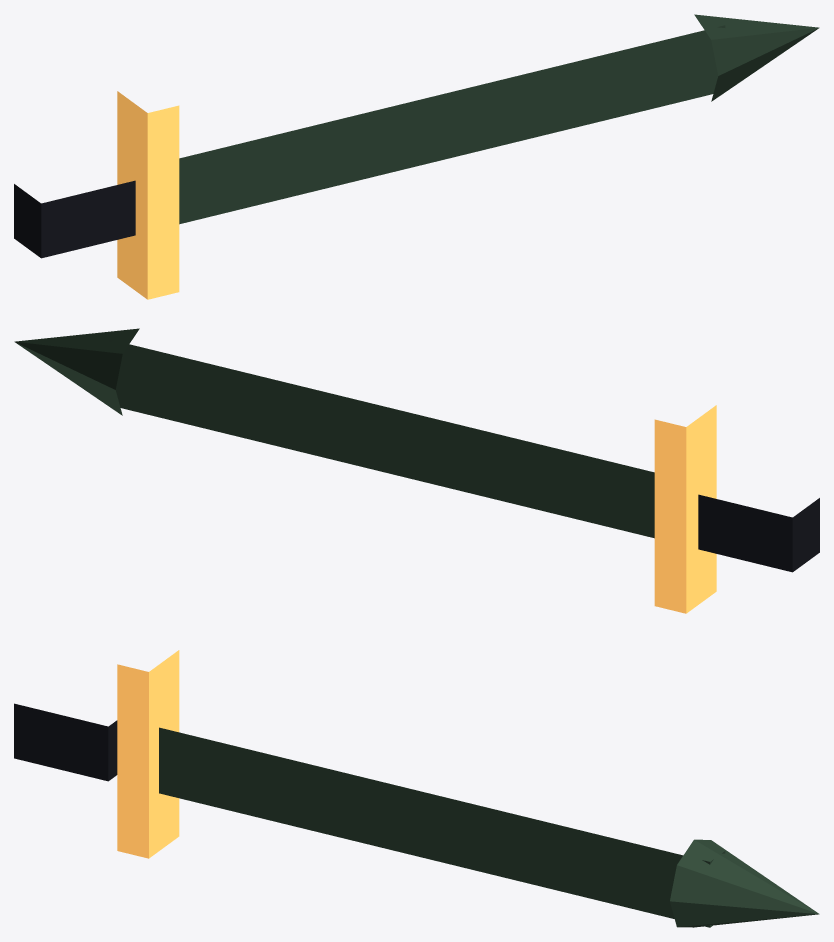
The model's file is dragon-knight.glb.
3 views of the same model, one above another, from view 1: azimuth 30°, elevation 25°; view 2: azimuth 150°, elevation 25°; view 3: azimuth 330°, elevation 25° (orthographic).
Visible parts, largest first — view 1: dragon-knight-blade, dragon-knight-guard, dragon-knight-grip, dragon-knight-tip; view 2: dragon-knight-blade, dragon-knight-guard, dragon-knight-grip, dragon-knight-tip; view 3: dragon-knight-blade, dragon-knight-guard, dragon-knight-tip, dragon-knight-grip.
Boxes of the visible parts, box(x1,y1,x2,y2) form: dragon-knight-blade: box(179, 25, 725, 224); dragon-knight-guard: box(117, 91, 179, 299); dragon-knight-grip: box(14, 180, 135, 258); dragon-knight-tip: box(694, 14, 819, 101); dragon-knight-blade: box(108, 339, 654, 538); dragon-knight-guard: box(654, 405, 716, 613); dragon-knight-grip: box(698, 494, 819, 572); dragon-knight-tip: box(14, 328, 139, 415); dragon-knight-blade: box(159, 727, 725, 927); dragon-knight-guard: box(117, 650, 179, 858); dragon-knight-tip: box(670, 839, 819, 927); dragon-knight-grip: box(14, 703, 117, 781).
Bounding box in the file's own units: 1.51 × 0.34 × 0.16.
